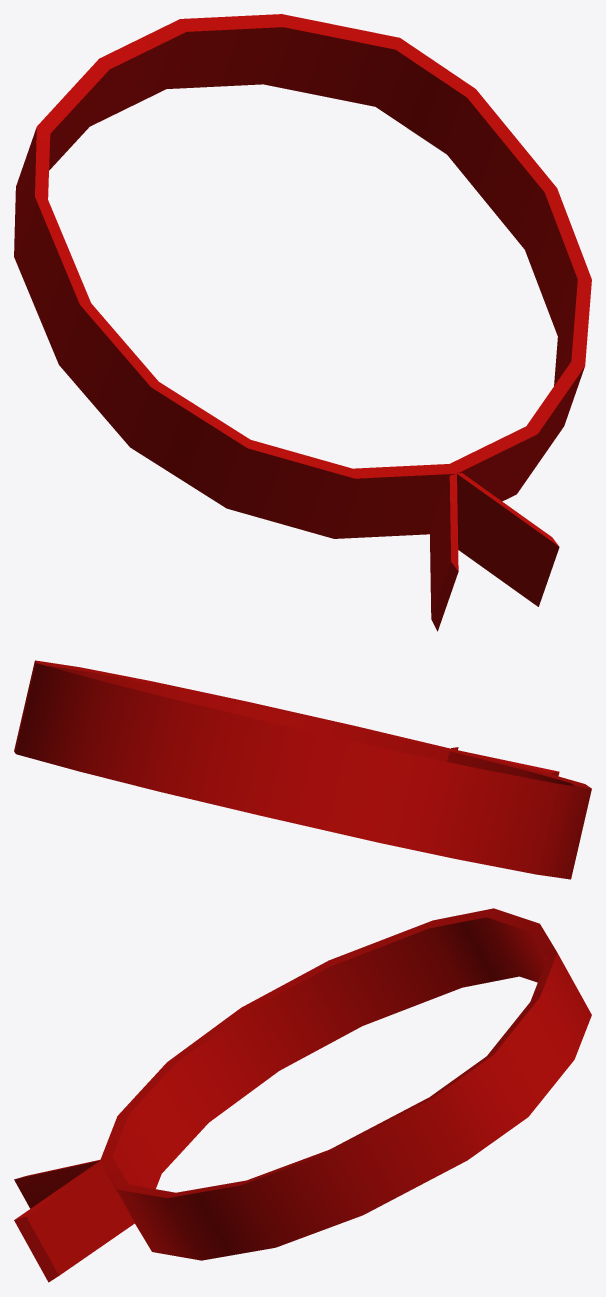
File: headband_basic_red.glb
3 views of the same model, one above another, from view 1: azimuth 30°, elevation 25°; view 2: azimuth 150°, elevation 25°; view 3: azimuth 270°, elevation 25° (orthographic). The views are drawn at different scales.
Parts seen in each view (by area): view 1: 0.085; view 2: 0.085; view 3: 0.085.
Part boxes in pixels (<box>): 0.085: <box>14,14,591,631</box>; 0.085: <box>14,660,591,879</box>; 0.085: <box>14,908,591,1282</box>.
Size of the model in its own units: 0.4725 by 0.3547 by 0.6001.
